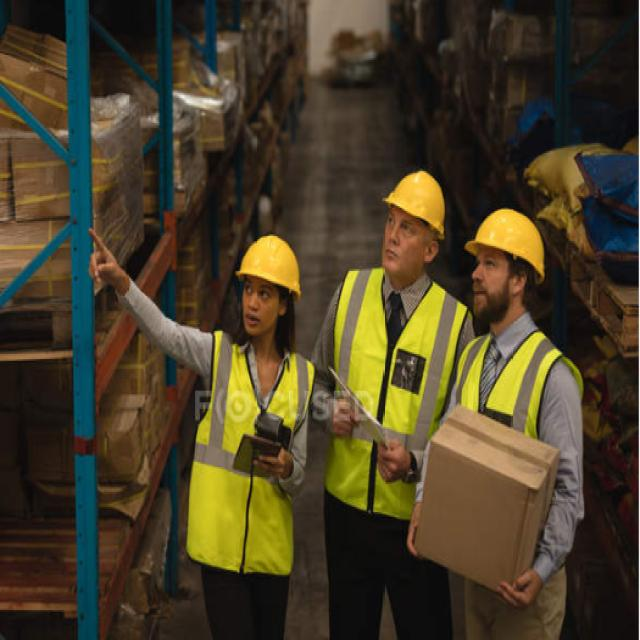hard_hat: (463, 203, 545, 326), (378, 164, 447, 286), (230, 231, 304, 341)
vest: (323, 264, 472, 532), (183, 328, 317, 585), (452, 331, 588, 563)
